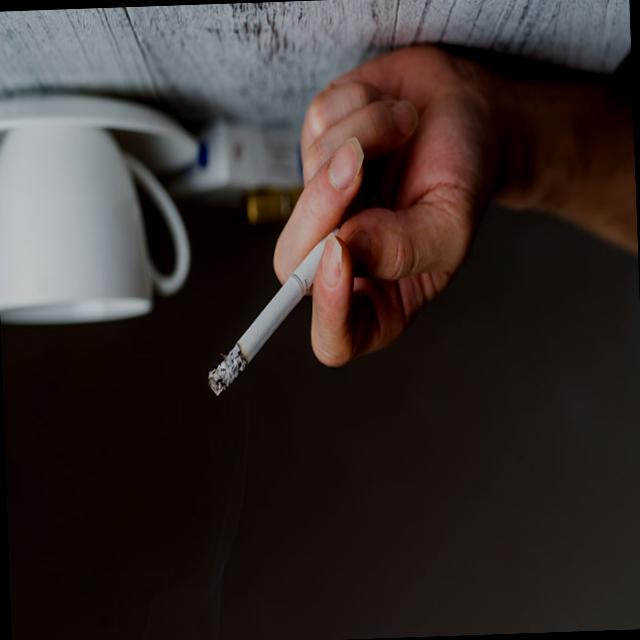cigarette: (198, 216, 348, 407)
